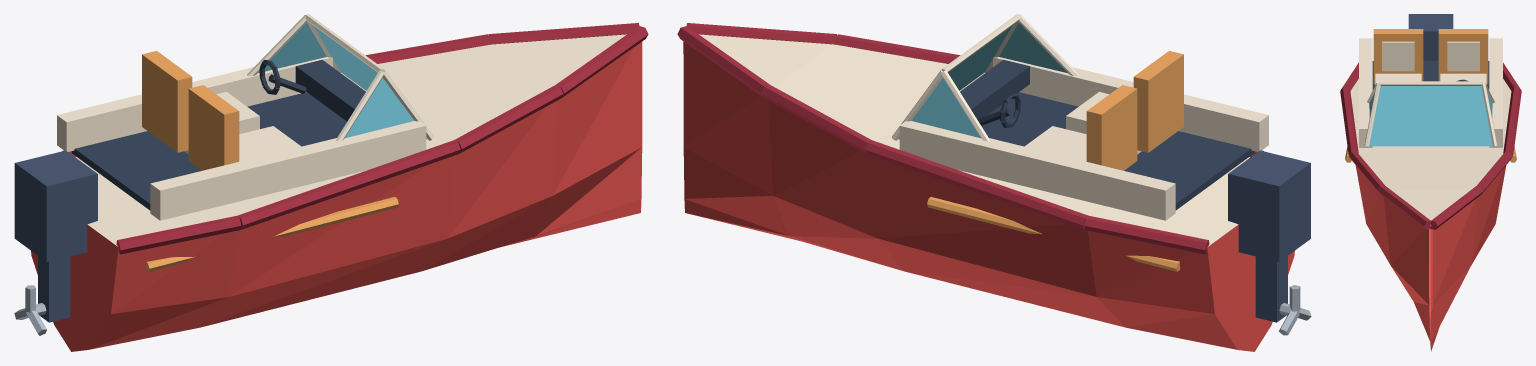
Rendered from boat-speedboat.glb.
3 views of the same model, side by side, from view 1: azimuth 30°, elevation 25°; view 2: azimuth 150°, elevation 25°; view 3: azimuth 270°, elevation 25° (orthographic). The views are drawn at different scales.
Parts seen in each view (by area): view 1: hull, deck, edge, cockpit, motor, seat_accent, windshield, windshield_frame, seat, propeller, steering; view 2: hull, deck, edge, cockpit, motor, seat_accent, windshield, windshield_frame, seat, propeller, steering; view 3: hull, deck, windshield, edge, seat_accent, seat, windshield_frame, motor, cockpit.
Boxes of the visible parts, x1=… form: hull: x1=31, y1=42, x2=642, y2=351; deck: x1=57, y1=34, x2=626, y2=246; edge: x1=62, y1=23, x2=648, y2=254; cockpit: x1=71, y1=59, x2=365, y2=210; motor: x1=14, y1=150, x2=97, y2=322; seat_accent: x1=142, y1=51, x2=398, y2=271; windshield: x1=258, y1=23, x2=427, y2=139; windshield_frame: x1=247, y1=14, x2=433, y2=141; seat: x1=184, y1=92, x2=300, y2=161; propeller: x1=14, y1=285, x2=46, y2=335; steering: x1=259, y1=59, x2=306, y2=94; hull: x1=683, y1=41, x2=1294, y2=351; deck: x1=699, y1=34, x2=1268, y2=246; edge: x1=677, y1=23, x2=1263, y2=254; cockpit: x1=960, y1=59, x2=1254, y2=210; motor: x1=1228, y1=150, x2=1310, y2=322; seat_accent: x1=927, y1=51, x2=1183, y2=271; windshield: x1=898, y1=23, x2=1067, y2=139; windshield_frame: x1=891, y1=14, x2=1078, y2=141; seat: x1=1024, y1=91, x2=1141, y2=161; propeller: x1=1278, y1=285, x2=1311, y2=335; steering: x1=977, y1=93, x2=1020, y2=127; hull: x1=1355, y1=165, x2=1506, y2=351; deck: x1=1350, y1=38, x2=1511, y2=225; windshield: x1=1369, y1=86, x2=1492, y2=146; edge: x1=1340, y1=62, x2=1521, y2=229; seat_accent: x1=1345, y1=29, x2=1516, y2=162; seat: x1=1375, y1=41, x2=1486, y2=84; windshield_frame: x1=1364, y1=81, x2=1497, y2=146; motor: x1=1408, y1=14, x2=1453, y2=60; cockpit: x1=1372, y1=61, x2=1489, y2=89.
Size of the model in its own units: 5.8 by 2.18 by 2.12.
